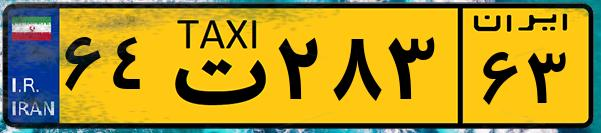2: (270, 28, 330, 110)
3: (385, 28, 445, 110), (525, 38, 570, 115)
4: (110, 28, 158, 98)
6: (57, 26, 110, 100), (475, 38, 525, 113)
8: (330, 28, 385, 110)
ت: (158, 12, 270, 120)
